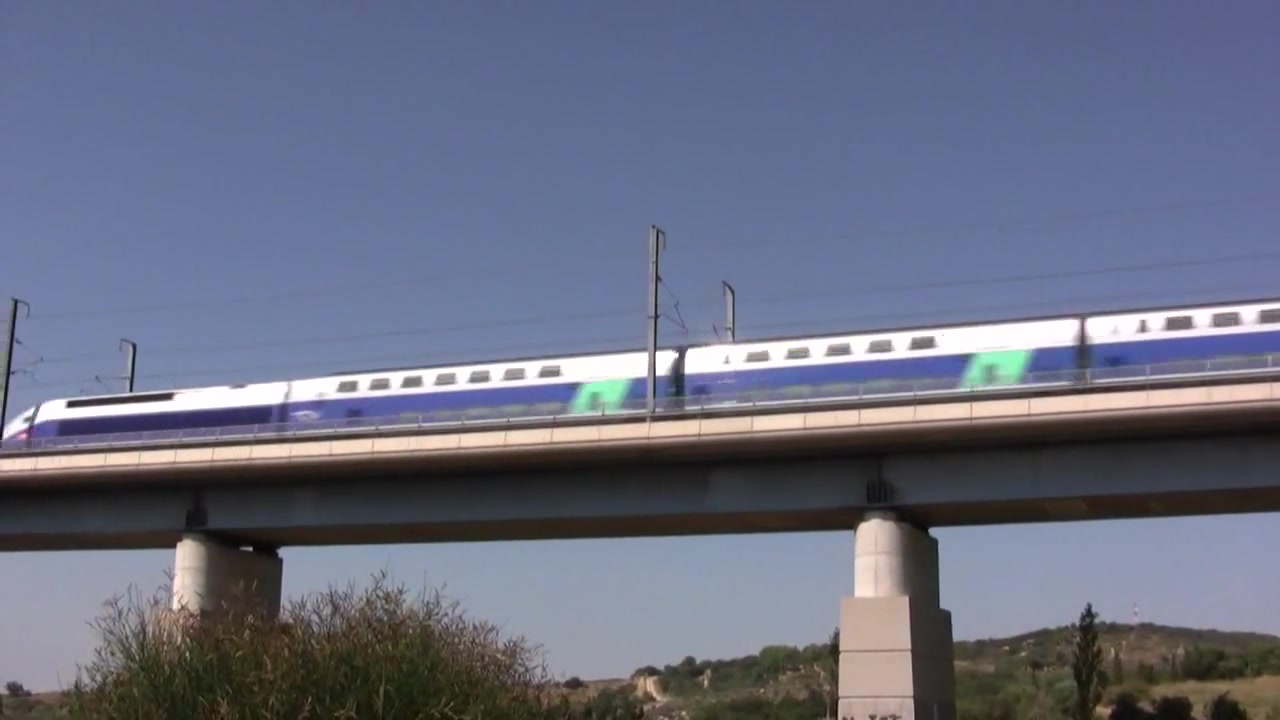train: (1, 297, 1280, 466)
